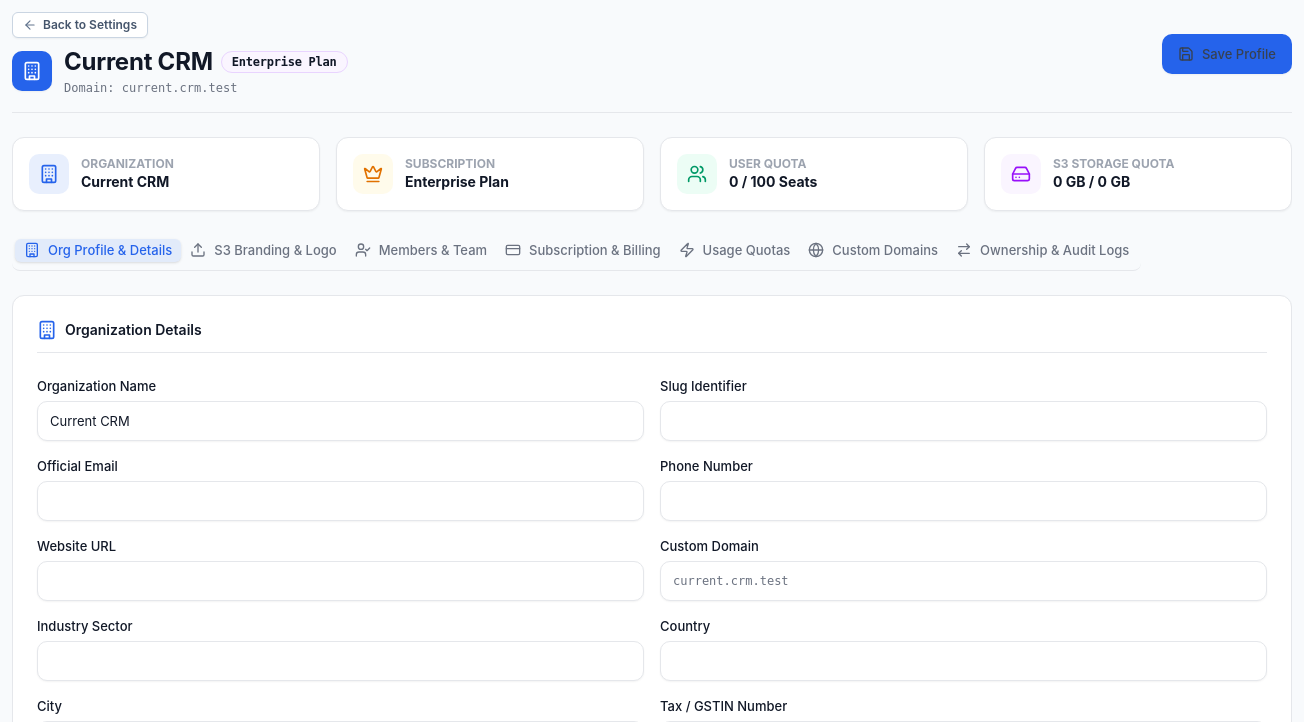
Scenario: Organization detail route and current organization mode › renders truthful billing status: {"plan":"Enterprise","status":"cancelled","provider_linked":true,"auto_renew":true,"amount":0,"currency":"INR","billing_cycle":
Step 1. Press the mouse on the tab "Subscription & Billing" → (583, 250), box top-left (496, 238), bottom-right (670, 262)
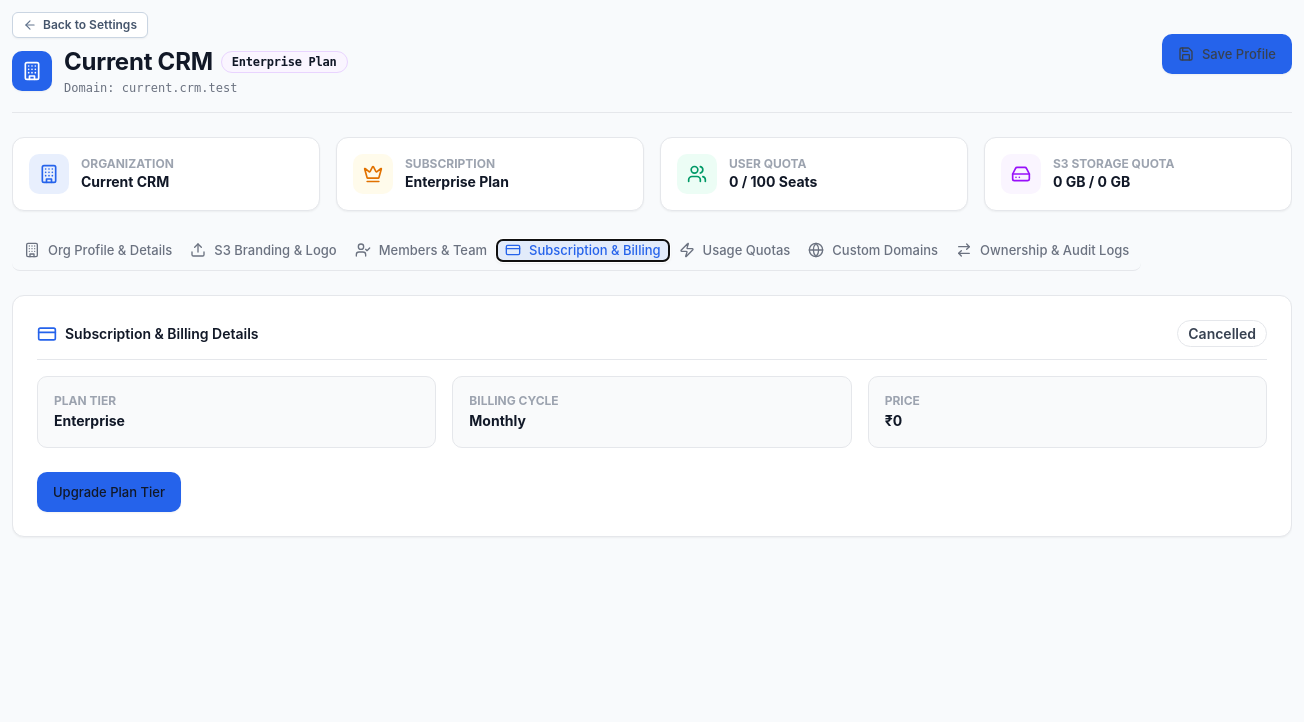
expect the text "Cancelled" is shown: met, box top-left (1177, 320), bottom-right (1267, 347)
